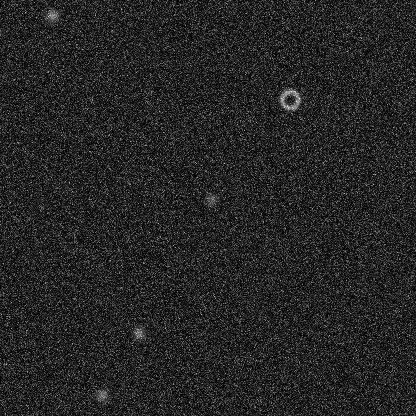Ring: (277, 87, 301, 111)
Spot: (93, 387, 109, 403), (130, 325, 146, 341), (203, 191, 219, 207), (44, 7, 60, 23)
